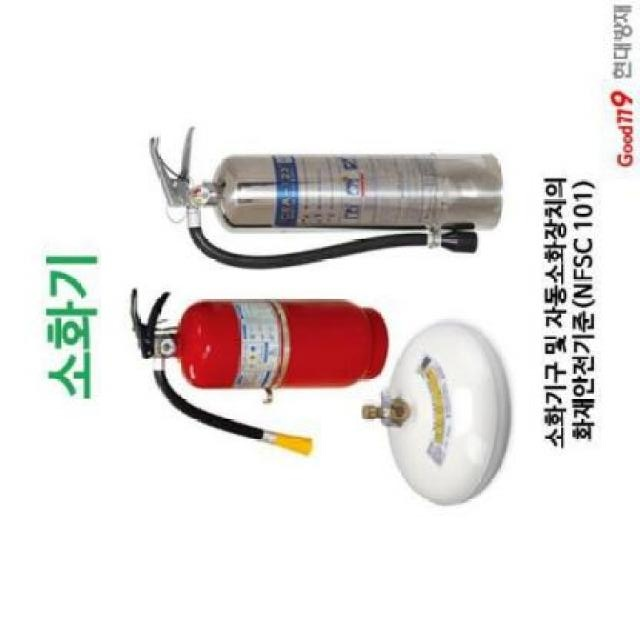fire extinguisher: (147, 126, 501, 271), (130, 287, 390, 458)
